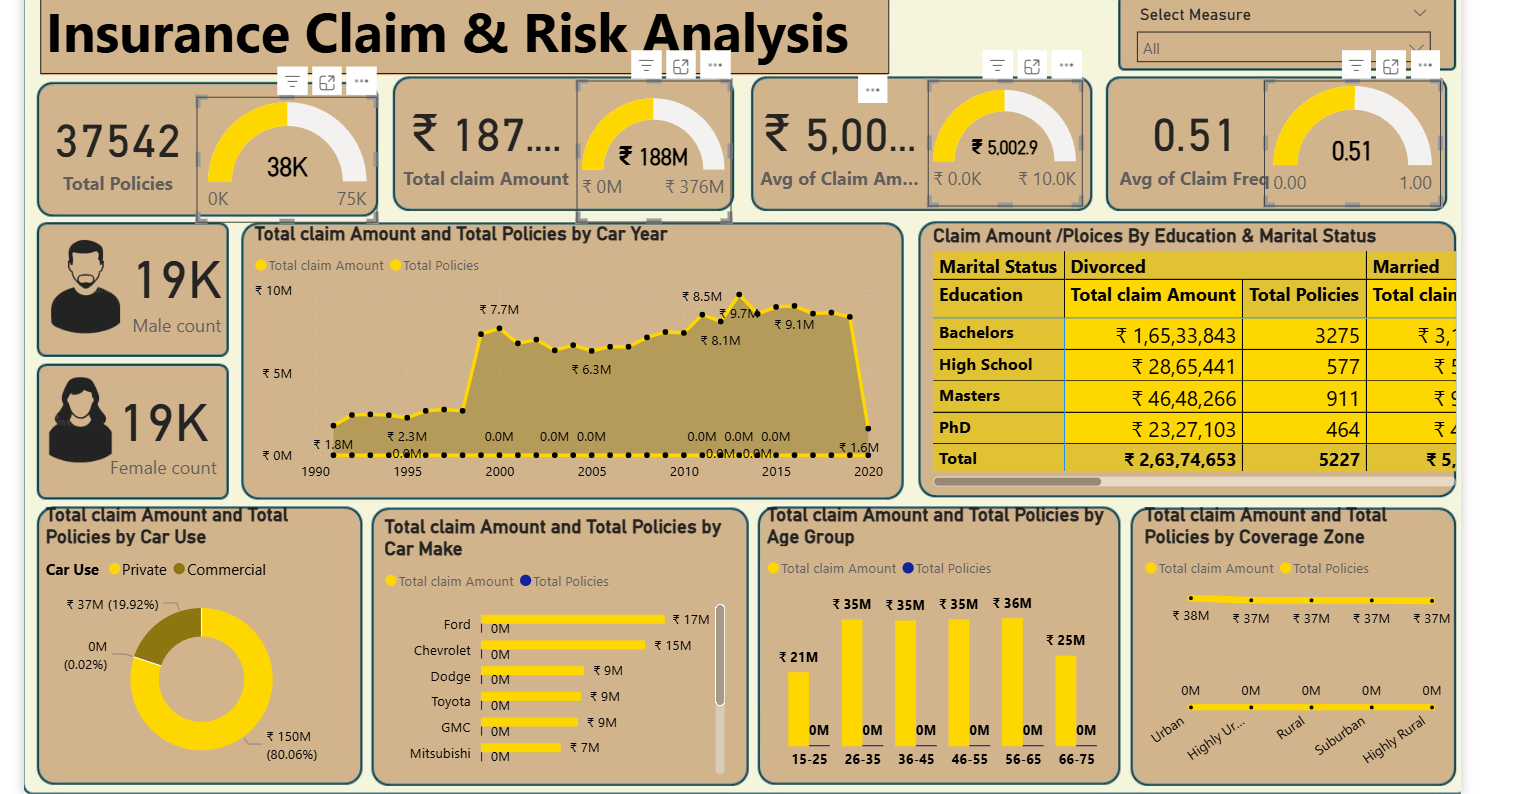

Layout of this report page (visuals, bound fields, positions):
{"tool":"powerbi","page":{"name":"Dashboard","canvas":[1280,720],"ordinal":0},"visuals":[{"type":"card","fields":{"Values":["insurance_data_car.Total Policies"]},"box":[15,87.3,138.4,112.2],"z":0},{"type":"card","fields":{"Values":["insurance_data_car.Total claim Amount"]},"box":[330.3,77.3,162.1,122.2],"z":1000},{"type":"card","fields":{"Values":["Avg(insurance_data_car.Claim Amount)"]},"box":[648.2,77.3,157.1,122.2],"z":2000},{"type":"card","fields":{"Values":["Avg(insurance_data_car.Claim Freq)"]},"box":[962.4,77.3,159.6,122.2],"z":3000},{"type":"card","fields":{"Values":["insurance_data_car.Male count"]},"box":[84.8,209.4,103.5,112.2],"z":4000},{"type":"card","fields":{"Values":["insurance_data_car.Female count"]},"box":[69.8,336.6,108.5,112.2],"z":5000},{"type":"slicer","fields":{"Values":["Select Measure.Select Measure"]},"box":[981.1,10,281.7,58.6],"z":6000},{"type":"gauge","fields":{"Y":["insurance_data_car.Total Policies"]},"box":[153.3,97.2,162.1,112.2],"z":7000},{"type":"gauge","fields":{"Y":["insurance_data_car.Total claim Amount"]},"box":[492.4,82.3,137.1,127.2],"z":8000},{"type":"gauge","fields":{"Y":["Avg(insurance_data_car.Claim Amount)"]},"box":[805.3,82.3,137.1,112.2],"z":9000},{"type":"gauge","fields":{"Y":["Avg(insurance_data_car.Claim Freq)"]},"box":[1104.5,82.3,158.3,112.2],"z":10000},{"type":"image","box":[0,218.2,109.7,94.7],"z":11000},{"type":"image","box":[15,336.6,69.8,94.7],"z":12000},{"type":"donutChart","fields":{"Y":["insurance_data_car.Total claim Amount","insurance_data_car.Total Policies"],"Category":["insurance_data_car.Car Use"]},"box":[14.9,459.1,287.7,245.9],"z":13000},{"type":"lineChart","fields":{"Y":["insurance_data_car.Total claim Amount","insurance_data_car.Total Policies"],"Category":["insurance_data_car.Coverage Zone"]},"box":[992.6,459.1,287.7,245.9],"z":14000},{"type":"clusteredBarChart","fields":{"Y":["insurance_data_car.Total claim Amount","insurance_data_car.Total Policies"],"Category":["insurance_data_car.Car Make"]},"box":[316,469.5,313,235.5],"z":15000},{"type":"clusteredColumnChart","fields":{"Y":["insurance_data_car.Total claim Amount","insurance_data_car.Total Policies"],"Category":["insurance_data_car.Age Group"]},"box":[657,458.7,324.1,246.8],"z":16000},{"type":"areaChart","fields":{"Y":["insurance_data_car.Total claim Amount","insurance_data_car.Total Policies"],"Category":["insurance_data_car.Car Year"]},"box":[200.7,208.2,569.7,240.6],"z":17000},{"type":"pivotTable","title":"Claim Amount /Ploices By Education & Marital Status","fields":{"Values":["insurance_data_car.Total claim Amount","insurance_data_car.Total Policies"],"Rows":["insurance_data_car.Education"],"Columns":["insurance_data_car.Marital Status"]},"box":[804.8,210.2,475.5,238.5],"z":18000},{"type":"textbox","box":[15,0,755.4,77.3],"z":18001}]}

Visuals, with their boxes in screenshot pixels (x1, y1, x2, y2):
card - insurance_data_car.Total Policies: 33/86/188/213
card - insurance_data_car.Total claim Amount: 387/75/570/213
card - Avg(insurance_data_car.Claim Amount): 745/75/922/213
card - Avg(insurance_data_car.Claim Freq): 1099/75/1278/213
card - insurance_data_car.Male count: 111/224/228/350
card - insurance_data_car.Female count: 94/367/216/493
slicer - Select Measure.Select Measure: 1120/0/1437/65
gauge - insurance_data_car.Total Policies: 188/98/371/224
gauge - insurance_data_car.Total claim Amount: 570/81/724/224
gauge - Avg(insurance_data_car.Claim Amount): 922/81/1076/207
gauge - Avg(insurance_data_car.Claim Freq): 1259/81/1437/207
image: 16/234/139/340
image: 33/367/111/474
donutChart - insurance_data_car.Total claim Amount x insurance_data_car.Total Policies: 33/505/356/782
lineChart - insurance_data_car.Total claim Amount x insurance_data_car.Total Policies: 1133/505/1457/782
clusteredBarChart - insurance_data_car.Total claim Amount x insurance_data_car.Total Policies: 371/517/724/782
clusteredColumnChart - insurance_data_car.Total claim Amount x insurance_data_car.Total Policies: 755/504/1120/782
areaChart - insurance_data_car.Total claim Amount x insurance_data_car.Total Policies: 242/222/883/493
"Claim Amount /Ploices By Education & Marital Status" pivotTable: 921/225/1457/493
textbox: 33/0/883/75
